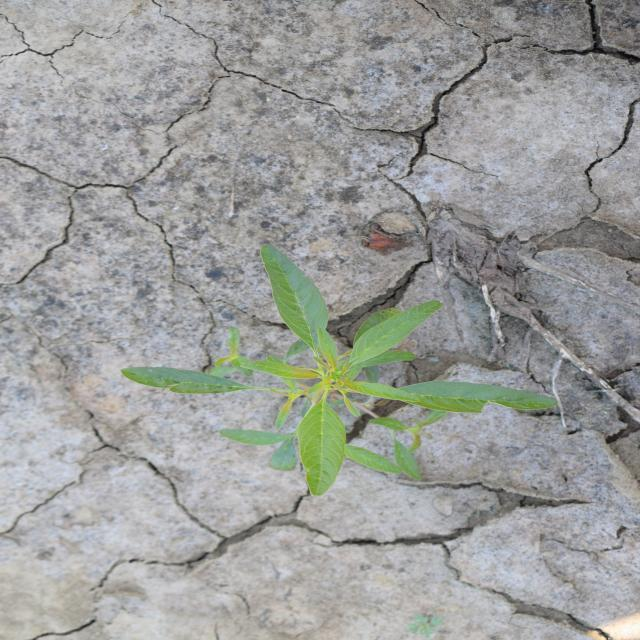Waterhemp: (117, 242, 562, 498)
